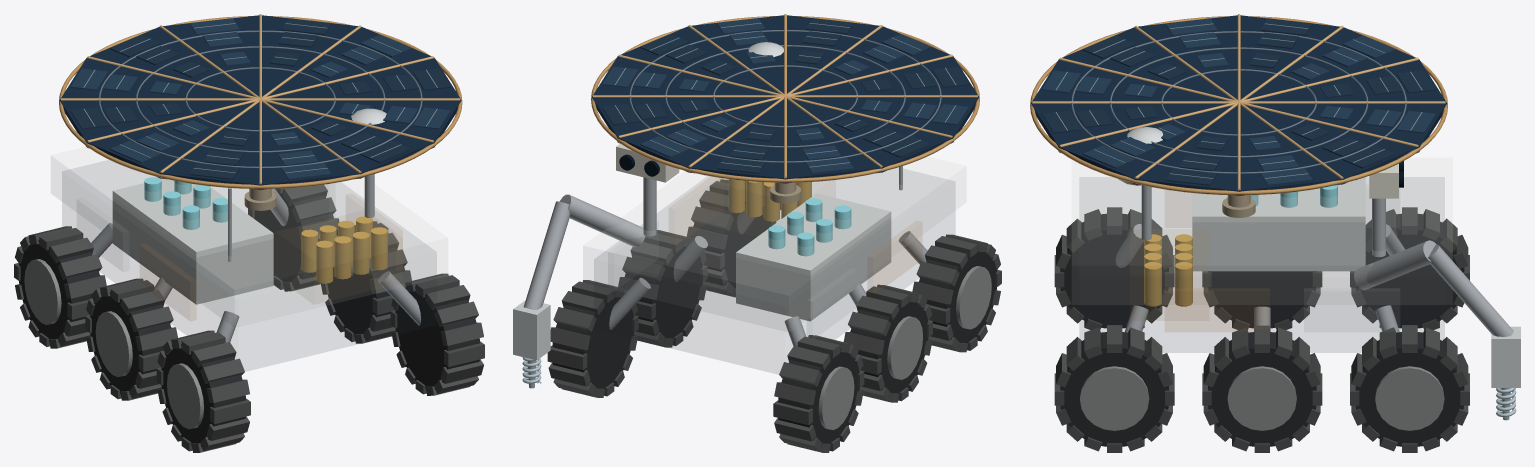
Rendered from nx1-inside.glb.
3 views of the same model, side by side, from view 1: azimuth 30°, elevation 25°; view 2: azimuth 150°, elevation 25°; view 3: azimuth 270°, elevation 25° (orthographic). The views are drawn at different scales.
Parts seen in each view (by area): view 1: RoundedBox (×5), wheels, solar, battery, lab, antenna, object 42, object 78, object 48, object 84, object 90, object 36 (+14 smaller); view 2: RoundedBox (×7), wheels, solar, drill, lab, battery, object 14, object 30, object 36, object 66, object 72, object 24 (+8 smaller); view 3: RoundedBox (×7), wheels, solar, drill, battery, antenna, object 14, lab, object 24, object 54, object 60, object 90 (+20 smaller).
Boxes of the visible parts, bbox=[...] form: RoundedBox (×5): bbox=[51, 147, 447, 370]; wheels: bbox=[14, 184, 484, 452]; solar: bbox=[59, 14, 462, 200]; battery: bbox=[301, 216, 387, 283]; lab: bbox=[144, 177, 227, 229]; antenna: bbox=[228, 108, 386, 261]; object 42: bbox=[281, 163, 331, 179]; object 78: bbox=[189, 18, 239, 34]; object 48: bbox=[189, 163, 239, 179]; object 84: bbox=[281, 18, 331, 34]; object 90: bbox=[360, 35, 411, 56]; object 36: bbox=[360, 141, 411, 162]; RoundedBox (×7): bbox=[513, 143, 965, 373]; wheels: bbox=[547, 179, 1001, 452]; solar: bbox=[591, 14, 979, 194]; drill: bbox=[522, 194, 645, 388]; lab: bbox=[768, 198, 851, 256]; battery: bbox=[728, 179, 811, 221]; object 14: bbox=[643, 177, 656, 236]; object 30: bbox=[717, 18, 765, 34]; object 36: bbox=[805, 18, 853, 34]; object 66: bbox=[805, 157, 853, 173]; object 72: bbox=[717, 157, 765, 173]; object 24: bbox=[640, 34, 689, 55]; RoundedBox (×7): bbox=[1072, 158, 1520, 387]; wheels: bbox=[1054, 207, 1469, 452]; solar: bbox=[1030, 14, 1447, 207]; drill: bbox=[1354, 240, 1516, 420]; battery: bbox=[1144, 234, 1192, 306]; antenna: bbox=[1118, 127, 1162, 240]; object 14: bbox=[1372, 198, 1385, 257]; lab: bbox=[1250, 185, 1337, 207]; object 24: bbox=[1165, 168, 1217, 185]; object 54: bbox=[1165, 18, 1217, 35]; object 60: bbox=[1260, 18, 1312, 35]; object 90: bbox=[1260, 168, 1312, 185].
Size of the model in its own units: 3.26 by 2.47 by 3.82.
